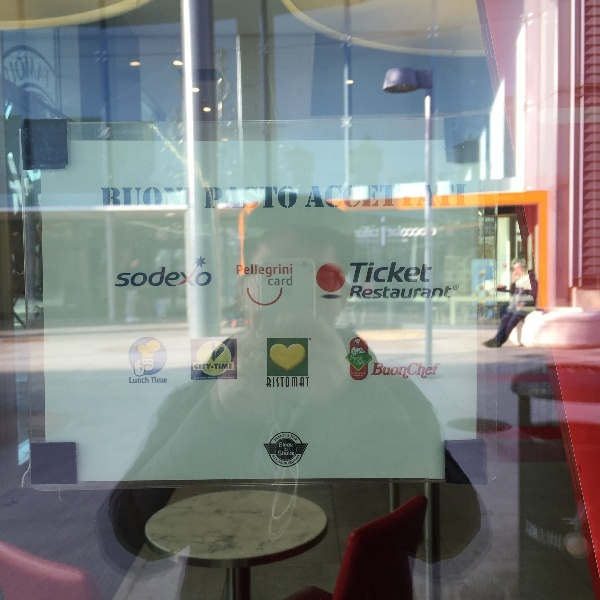text: (1, 55, 16, 90), (17, 55, 32, 90), (33, 55, 48, 90), (321, 185, 336, 208), (337, 185, 352, 208), (353, 185, 368, 208), (369, 185, 384, 208), (385, 185, 400, 208), (401, 185, 416, 208), (417, 185, 432, 208), (433, 185, 448, 208), (449, 185, 464, 208), (417, 262, 433, 283), (113, 188, 128, 210), (129, 188, 144, 210), (145, 188, 160, 210), (161, 188, 176, 210), (177, 188, 192, 210), (129, 266, 144, 288), (145, 266, 160, 288), (161, 266, 176, 288), (177, 266, 192, 288), (193, 266, 208, 288), (209, 187, 224, 209), (225, 187, 240, 209), (241, 187, 256, 209), (257, 187, 272, 209), (273, 187, 288, 209), (353, 262, 368, 283), (369, 262, 384, 283), (385, 262, 400, 283), (401, 262, 416, 283), (101, 188, 112, 210), (385, 363, 400, 379), (417, 363, 432, 379), (353, 285, 368, 300), (369, 285, 384, 300), (385, 285, 400, 300), (401, 285, 416, 300), (417, 285, 432, 300), (433, 285, 448, 300), (401, 224, 416, 238), (241, 264, 256, 278), (257, 264, 272, 278), (273, 264, 288, 278), (119, 266, 128, 288), (312, 185, 320, 208), (289, 187, 297, 209), (388, 224, 400, 238), (273, 276, 288, 287), (273, 377, 288, 388), (289, 377, 304, 388), (273, 432, 288, 443), (273, 455, 288, 466), (374, 363, 384, 379), (355, 226, 368, 238), (401, 363, 410, 379), (289, 455, 301, 466), (433, 363, 441, 379), (417, 224, 426, 238), (369, 226, 379, 238), (409, 363, 416, 379), (291, 435, 304, 443), (130, 377, 144, 384), (381, 216, 384, 248), (209, 266, 213, 288), (204, 187, 208, 209), (354, 360, 368, 366), (209, 364, 224, 369), (266, 377, 272, 388), (195, 364, 208, 369), (454, 285, 464, 291), (305, 377, 310, 388), (353, 356, 364, 361), (151, 377, 160, 383), (465, 185, 467, 208), (449, 285, 452, 300), (279, 443, 288, 448), (279, 451, 288, 456), (433, 226, 437, 237), (289, 276, 293, 287), (237, 264, 240, 278), (289, 264, 292, 278), (161, 377, 168, 383), (353, 372, 367, 375), (225, 364, 233, 369), (145, 377, 150, 384), (49, 55, 50, 90), (269, 276, 272, 287), (309, 338, 320, 341), (289, 451, 295, 456), (354, 375, 368, 377), (195, 377, 208, 379), (289, 443, 294, 448), (193, 188, 194, 210), (197, 377, 208, 379), (351, 262, 352, 283), (225, 377, 235, 379), (209, 377, 216, 379), (218, 377, 224, 379), (289, 432, 290, 443), (285, 448, 288, 451), (351, 356, 352, 361), (351, 372, 352, 375)
